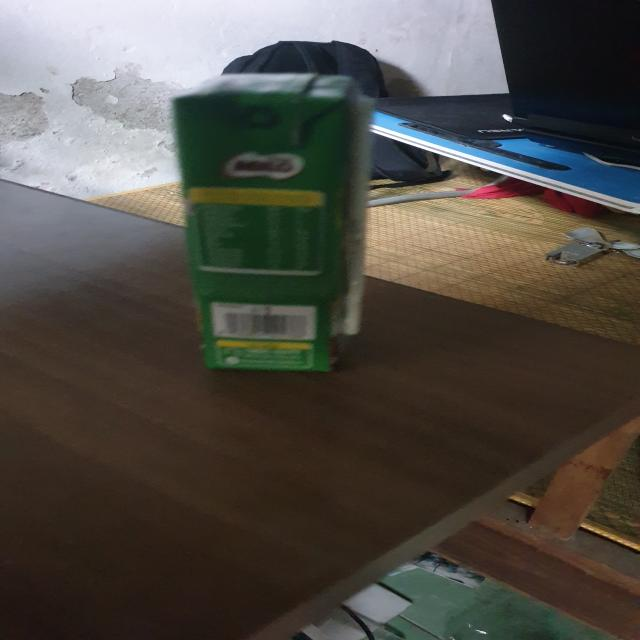Milo: (173, 69, 374, 368)
